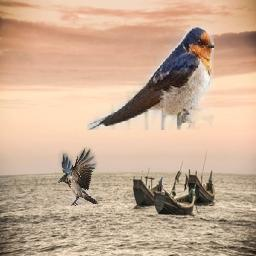Crow: (58, 148, 98, 207)
Swallow: (88, 28, 215, 131)
